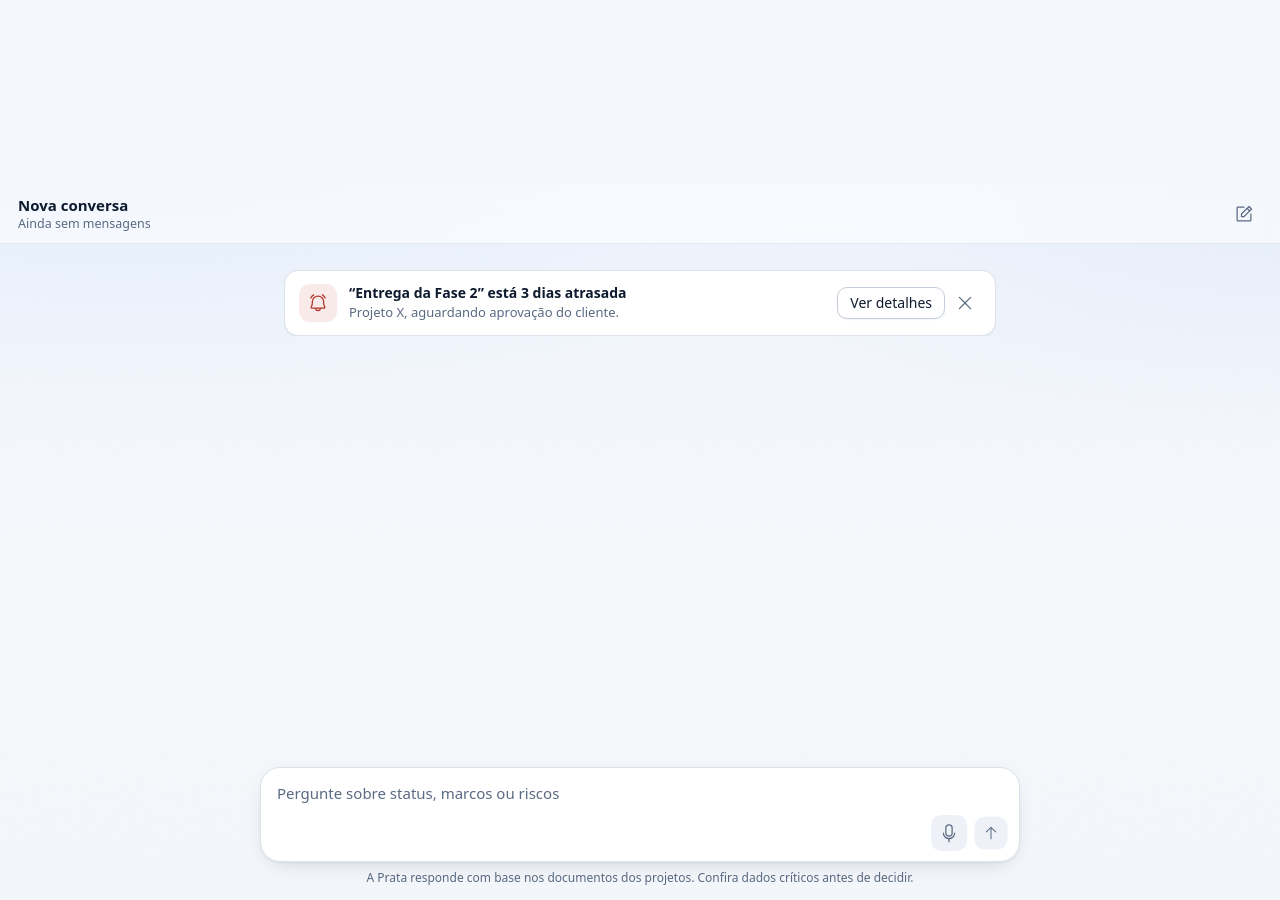
Scenario: Indisponibilidade do servidor e ausência de dados › não oferece reenviar quando o servidor recusa o pedido
The width and height of the screenshot is (1280, 900).
(page scrolled)
Type "Mostre o Projeto Y" into the text box named "Mensagem".
click(643, 793); type("Mostre o Projeto Y")  # box [277,780,1009,807]
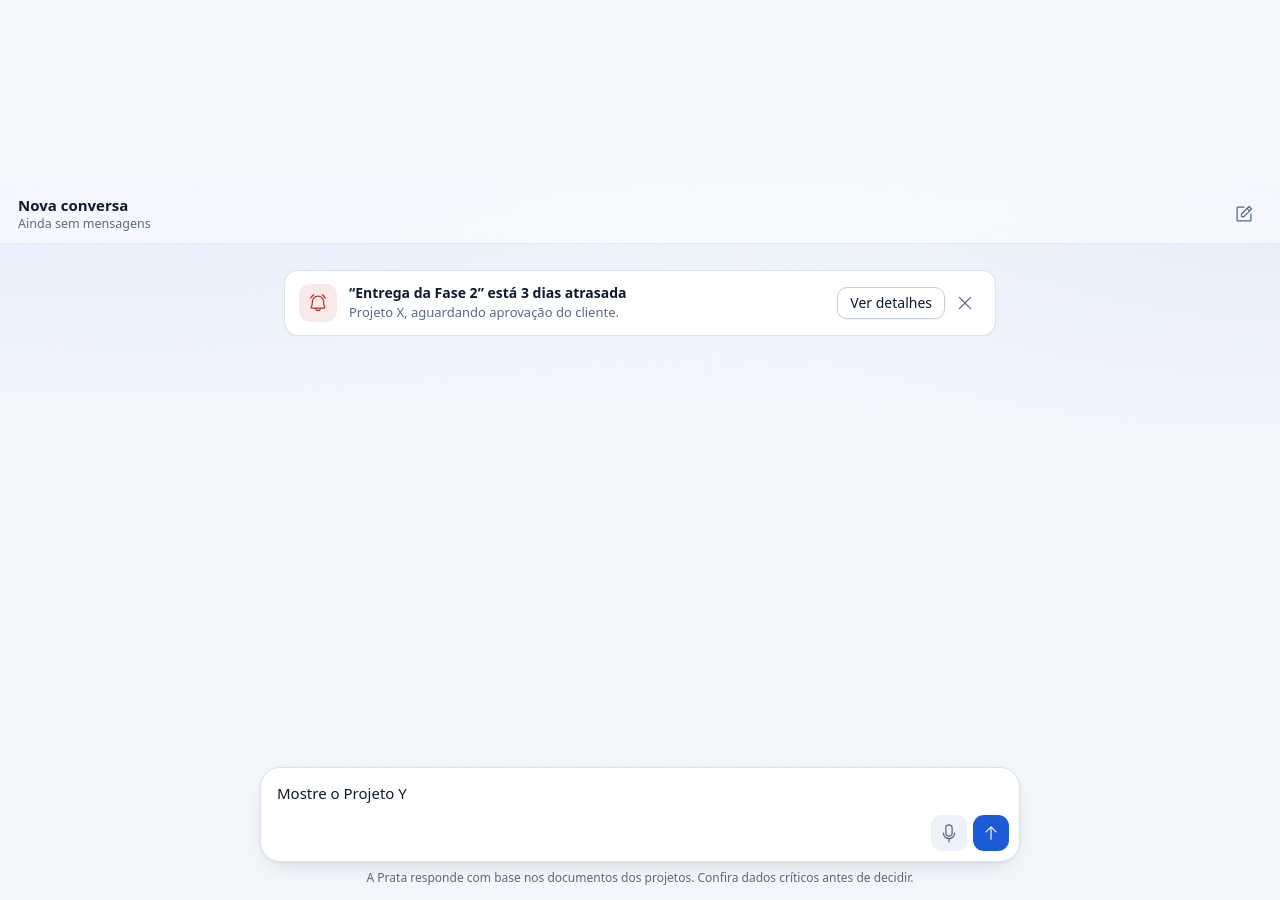
Click the button named "Enviar mensagem".
click(991, 833)  # box [973,815,1009,851]
(page scrolled)
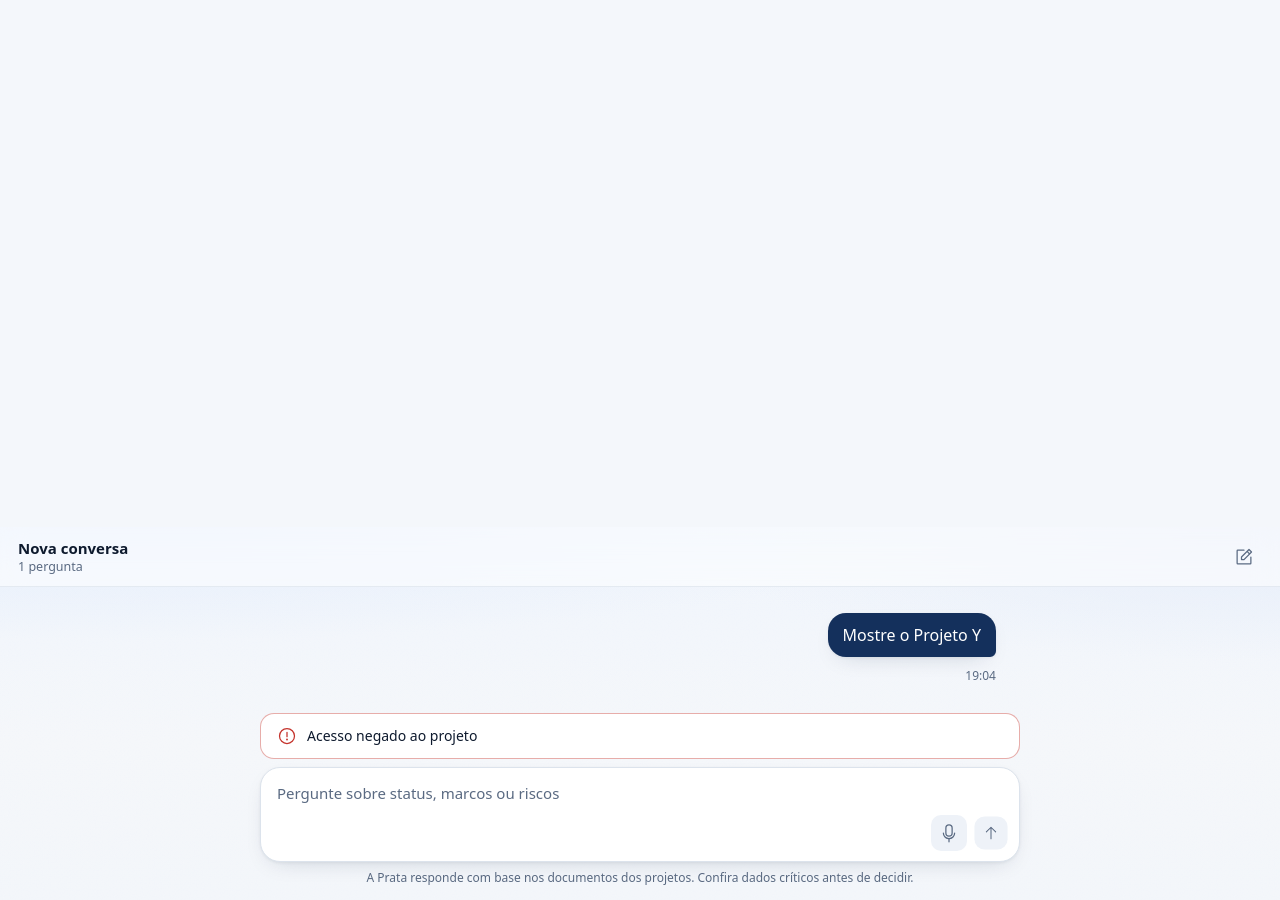
Expected: the message reads "Acesso negado ao projeto", [307,726,477,745]
